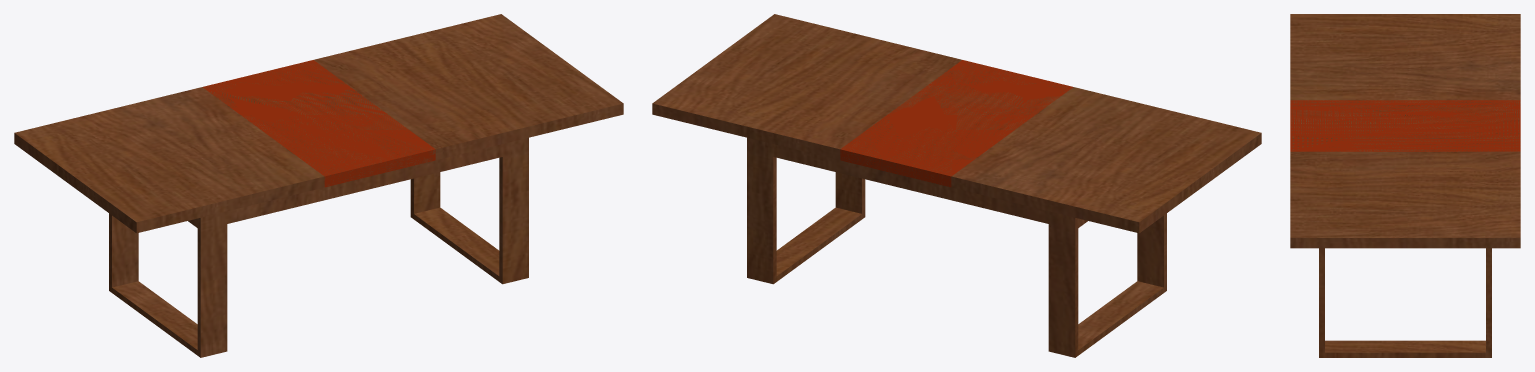
The model's file is dining_table.dae.
The picture shows the model from 3 angles, left to right: view 1: azimuth 30°, elevation 25°; view 2: azimuth 150°, elevation 25°; view 3: azimuth 270°, elevation 25°; orthographic projection. The views are drawn at different scales.
Visible parts, largest first — view 1: SketchUp (×3); view 2: SketchUp (×3); view 3: SketchUp (×3).
Part boxes in pixels (left/top/right/bottom): SketchUp (×3): left=14, top=14, right=623, bottom=357; SketchUp (×3): left=652, top=14, right=1261, bottom=357; SketchUp (×3): left=1290, top=14, right=1520, bottom=357.
Size of the model in its own units: 92 by 40 by 30.
